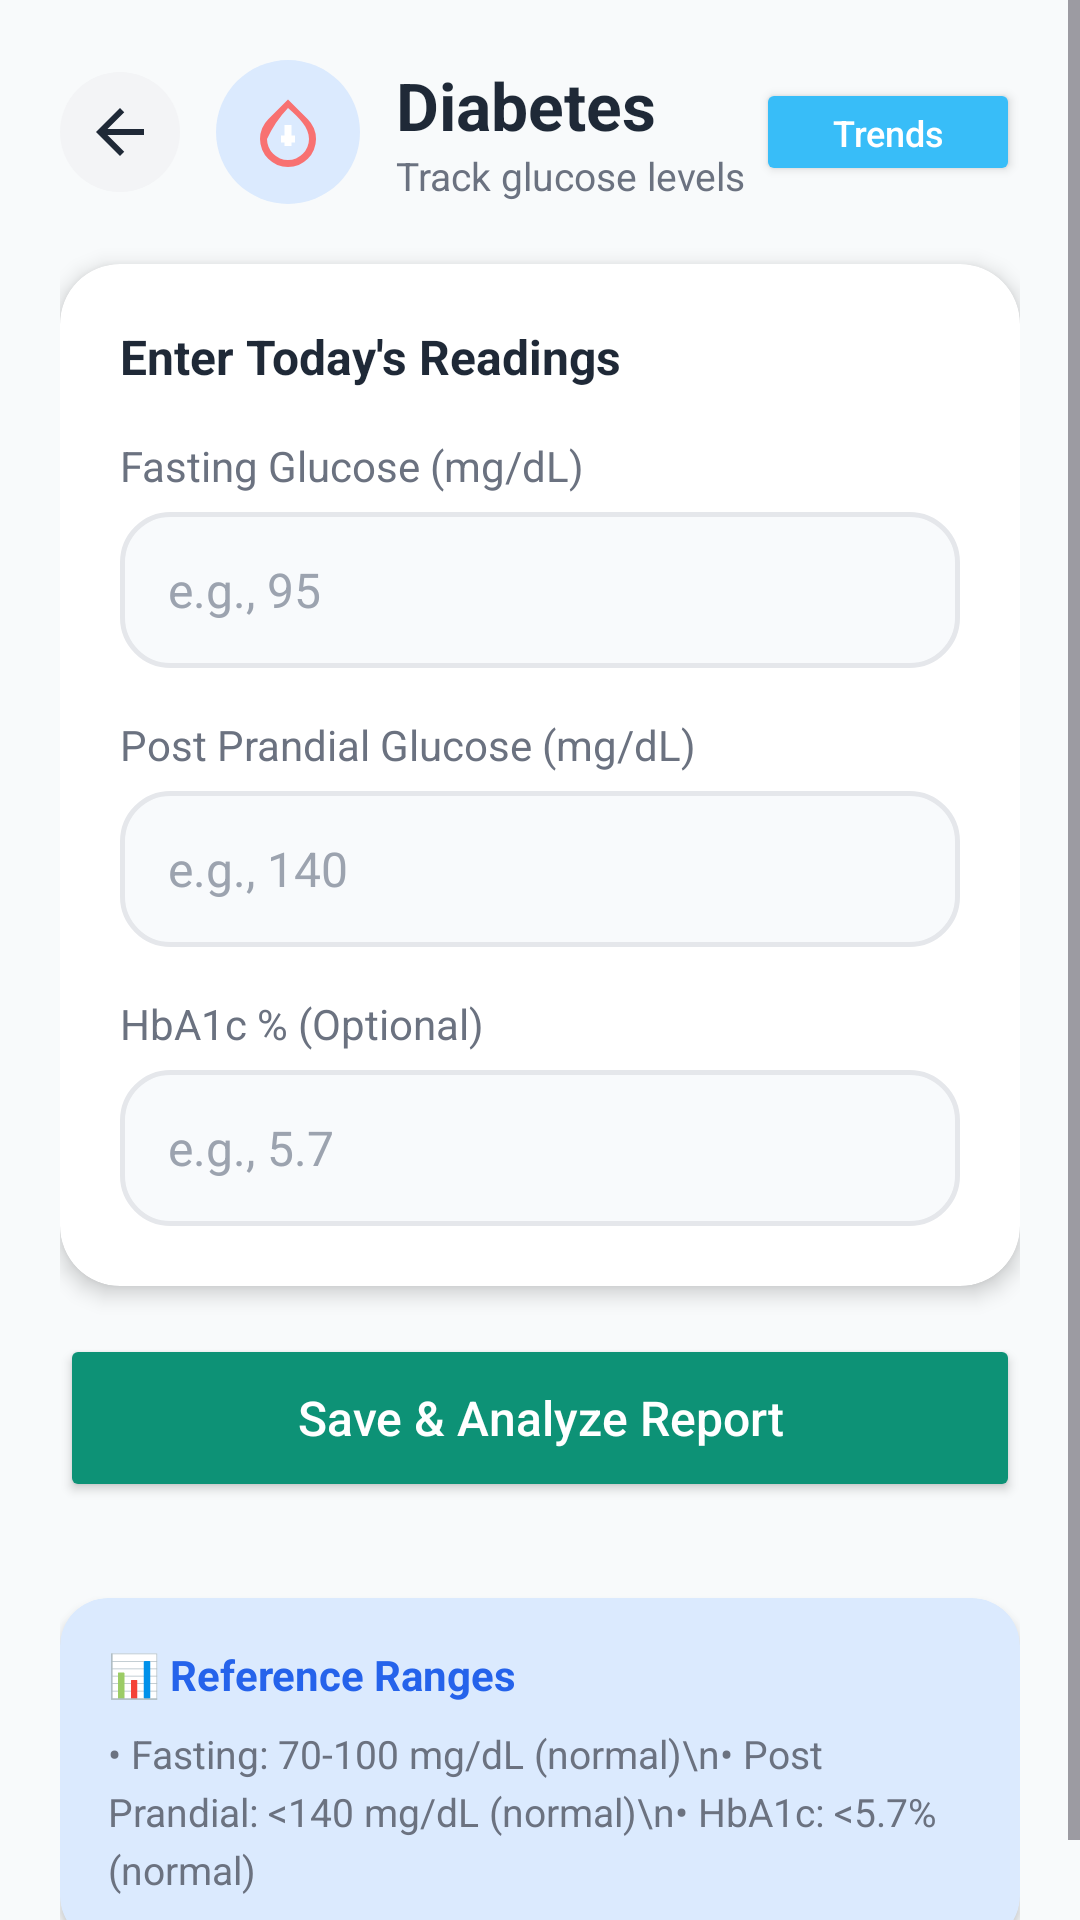

Named icons in this screenshot (1080 × 1920) and their bounding boxes, region(x1, y1, x2, y2):
Back: region(96, 108, 144, 156)
